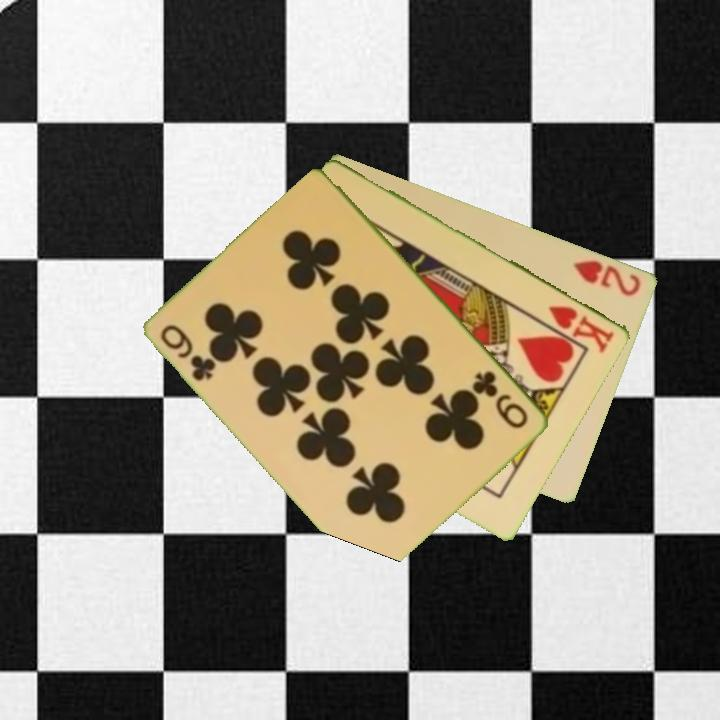2h: (570, 256, 644, 299)
9c: (157, 321, 220, 385), (470, 367, 532, 432)
Kh: (545, 301, 618, 355)
